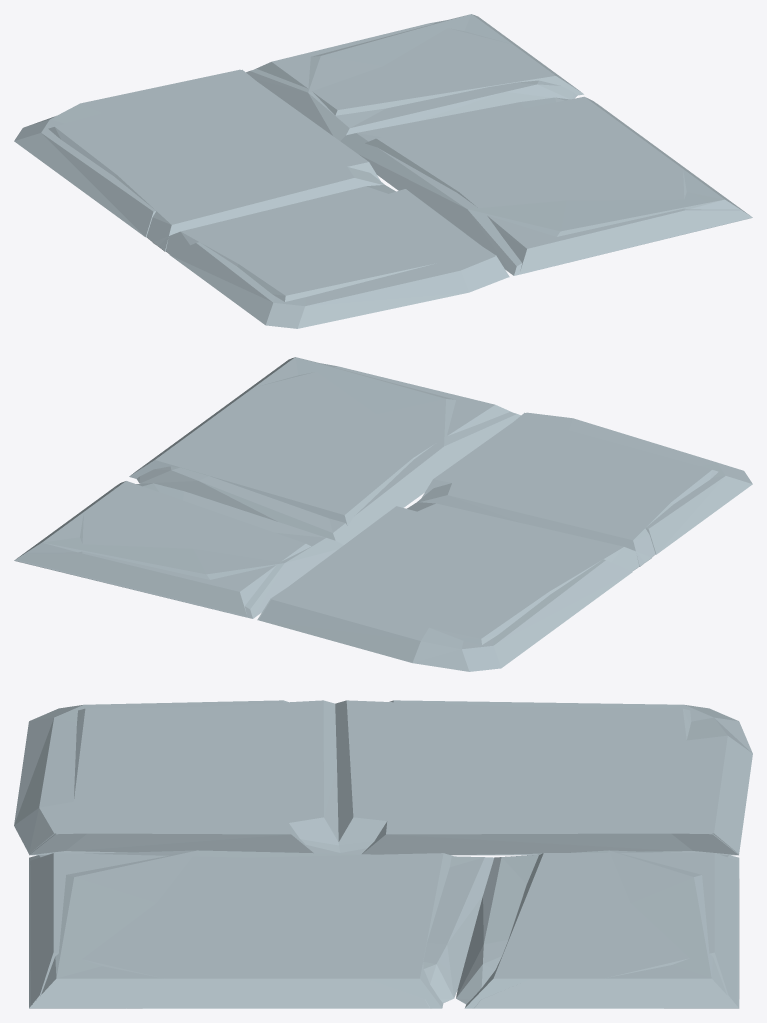
File: Pavement.fbx
The picture shows the model from 3 angles, top to bottom: view 1: azimuth 30°, elevation 25°; view 2: azimuth 150°, elevation 25°; view 3: azimuth 270°, elevation 25°; orthographic projection. The views are drawn at different scales.
Parts seen in each view (by area): view 1: Pavement_2, Pavement_1; view 2: Pavement_2, Pavement_1; view 3: Pavement_1, Pavement_2.
Boxes of the visible parts, x1,y1,x2,y2 form: Pavement_2: [14, 14, 750, 301]; Pavement_1: [48, 20, 752, 328]; Pavement_2: [14, 363, 718, 671]; Pavement_1: [16, 357, 752, 644]; Pavement_1: [14, 700, 739, 1008]; Pavement_2: [29, 700, 752, 1008].
Bounding box in the file's own units: 100 × 3.27 × 104.
